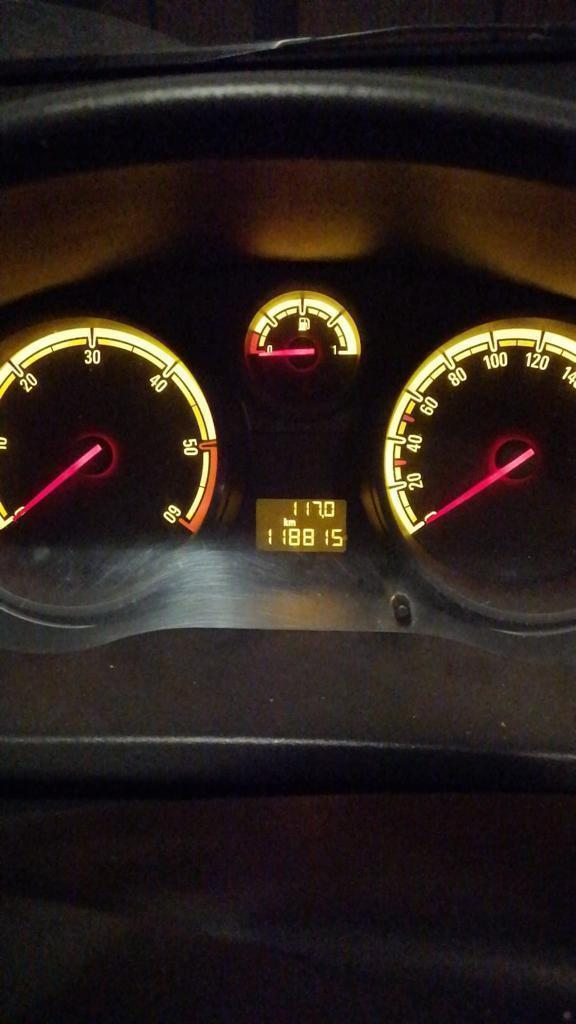,: (321, 514, 324, 518)
0: (323, 501, 335, 517)
1: (323, 527, 330, 546), (266, 527, 273, 545), (280, 527, 287, 545), (304, 500, 310, 516), (291, 500, 297, 516)
7: (311, 499, 322, 516)
8: (301, 527, 315, 546), (288, 527, 300, 546)
X: (288, 519, 296, 526), (282, 517, 288, 526)
odometer: (251, 494, 352, 555)
